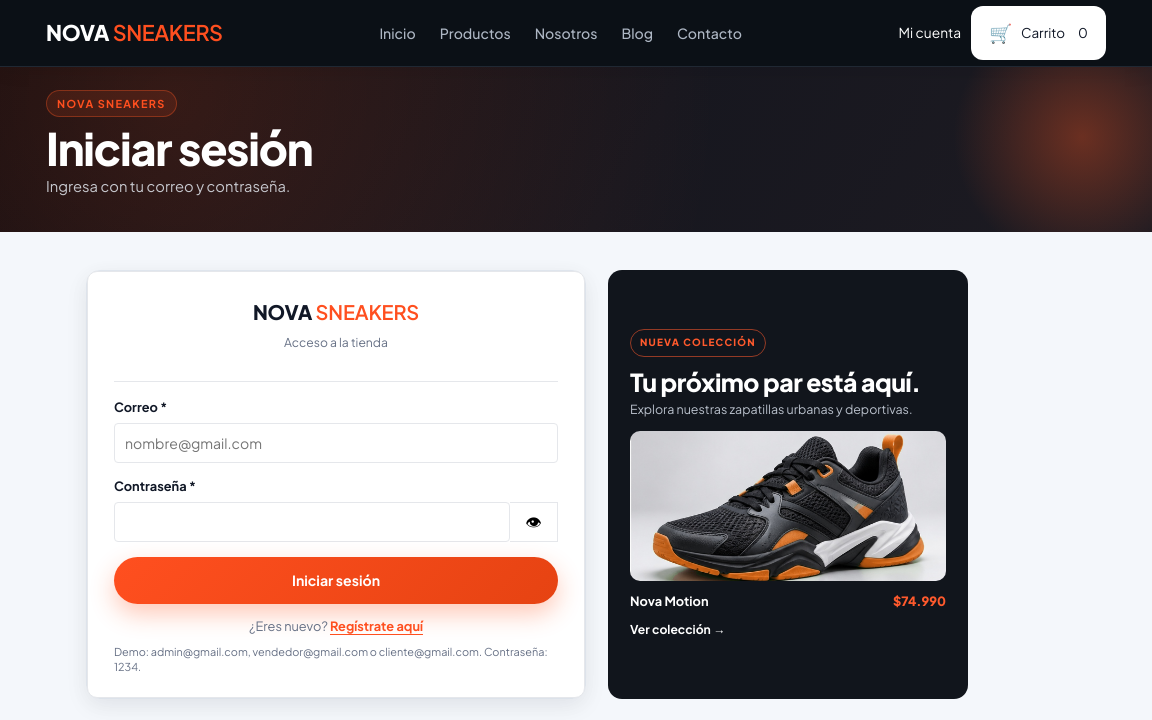
Test: Flujos principales de Nova Sneakers › rechaza correos no permitidos y contraseñas fuera del rango de la EA1
Type "persona@ejemplo.com" into the field labelled "Correo *" at (336, 443), box [114, 423, 558, 463]
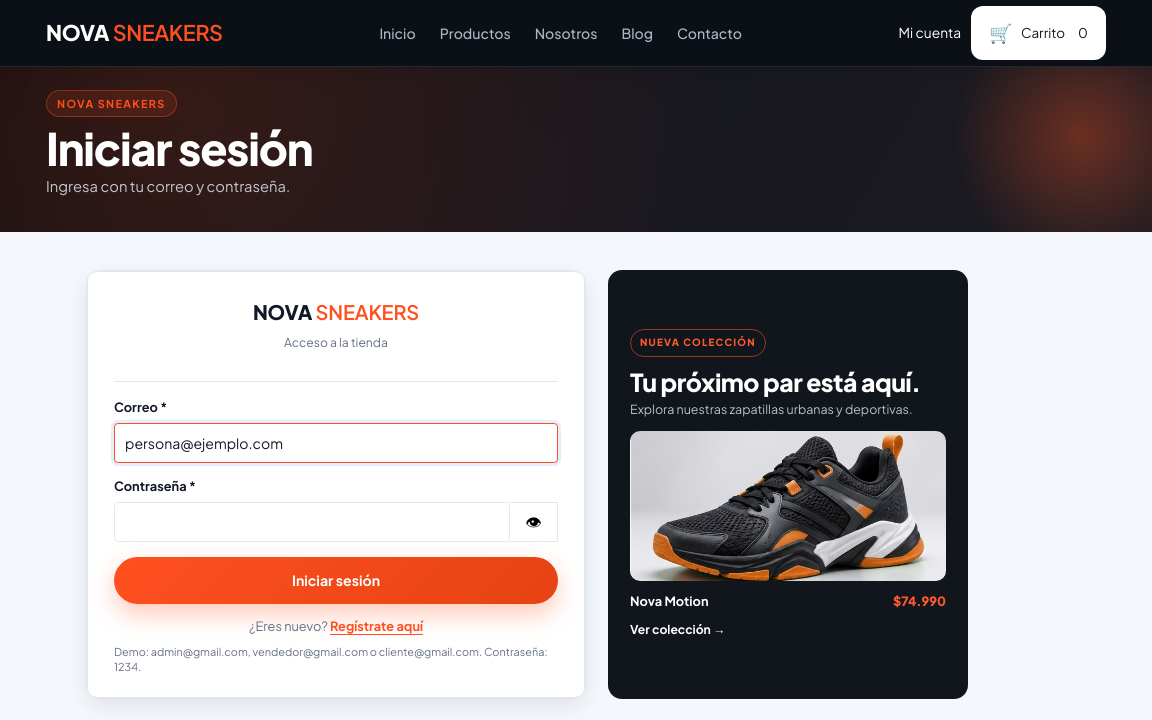
Type "123" into the password field labelled "Contraseña *" at (312, 522), box [114, 502, 510, 542]
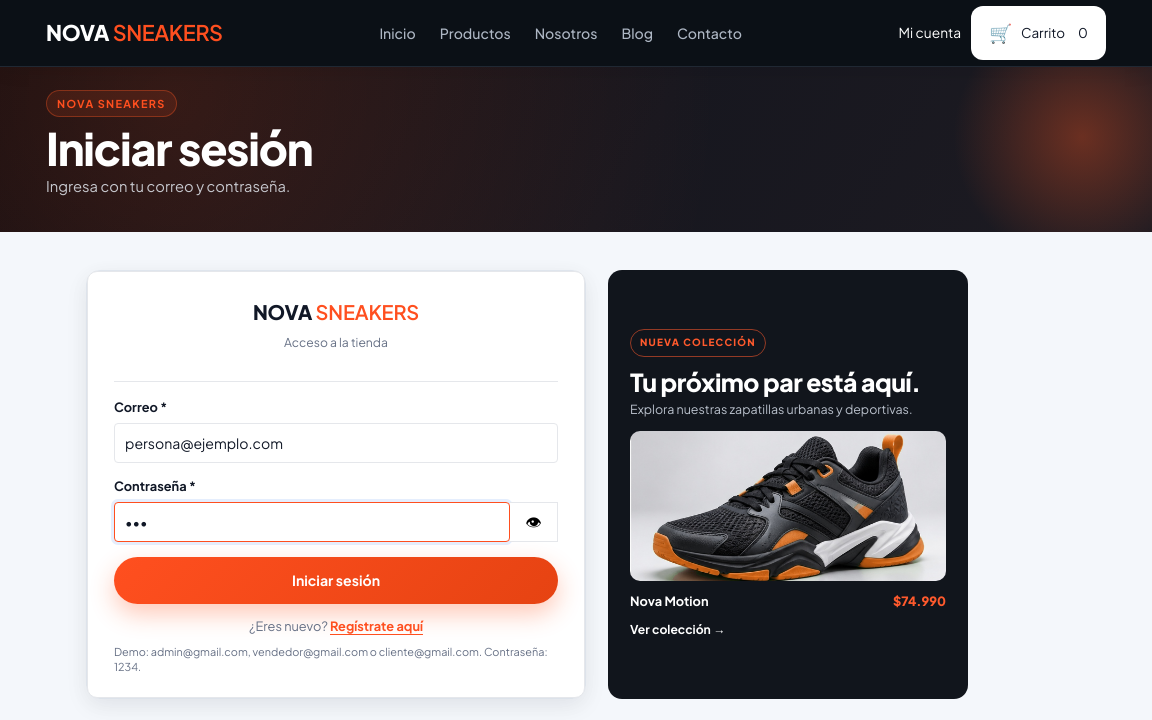
Click the button "Iniciar sesión" at (336, 580), box [114, 557, 558, 604]
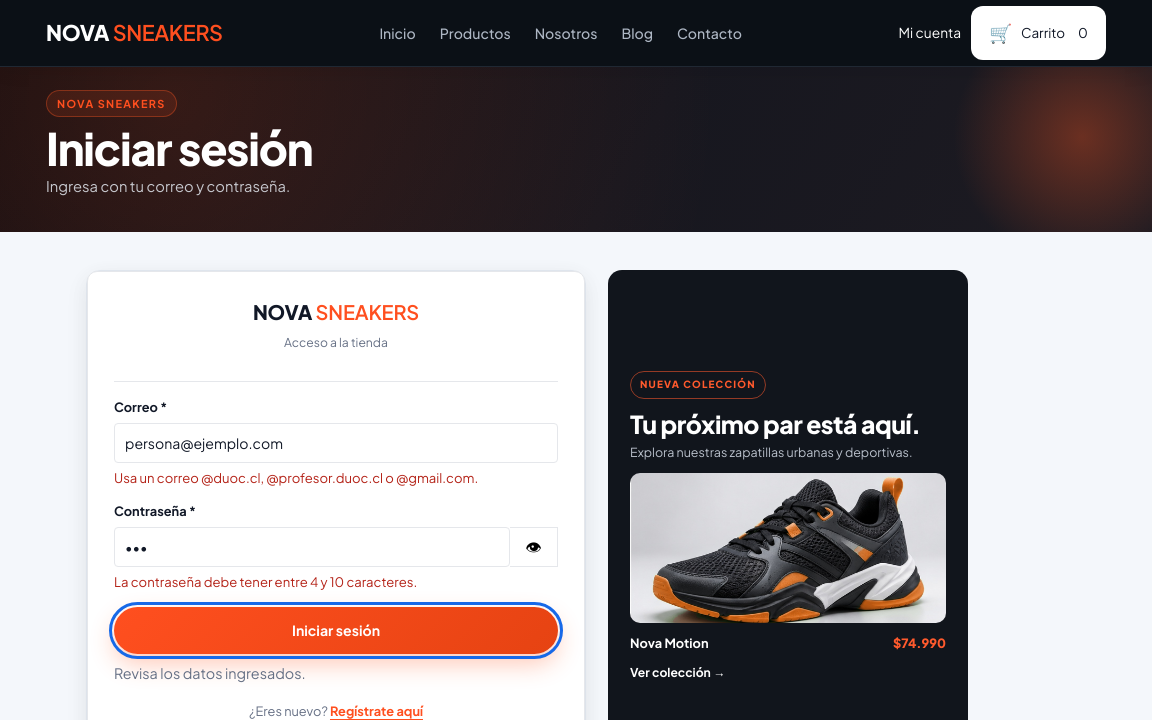
Now the text "Usa un correo @duoc.cl, @profesor.duoc.cl o @gmail.com." is shown, box [114, 469, 478, 486]
Now the text "La contraseña debe tener entre 4 y 10 caracteres." is shown, box [114, 573, 417, 590]
